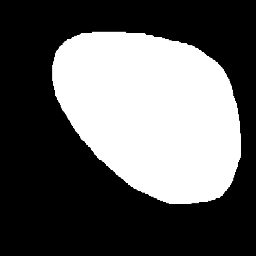mass: (53, 33, 235, 198)
